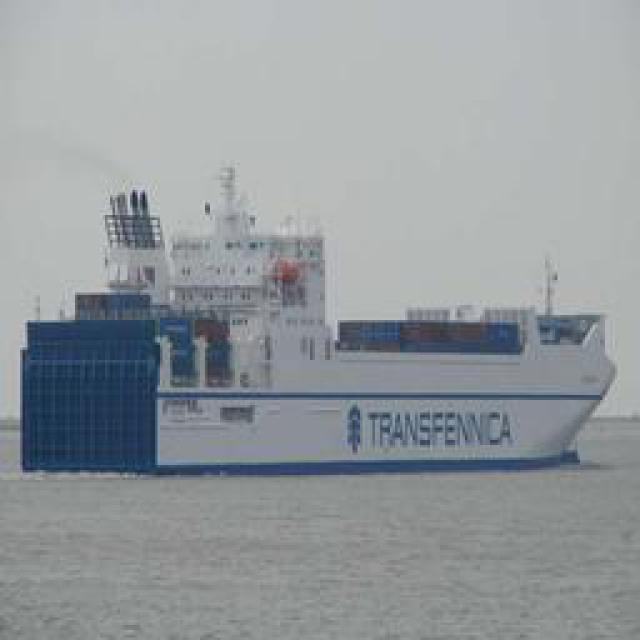Ship: (44, 226, 614, 474)
